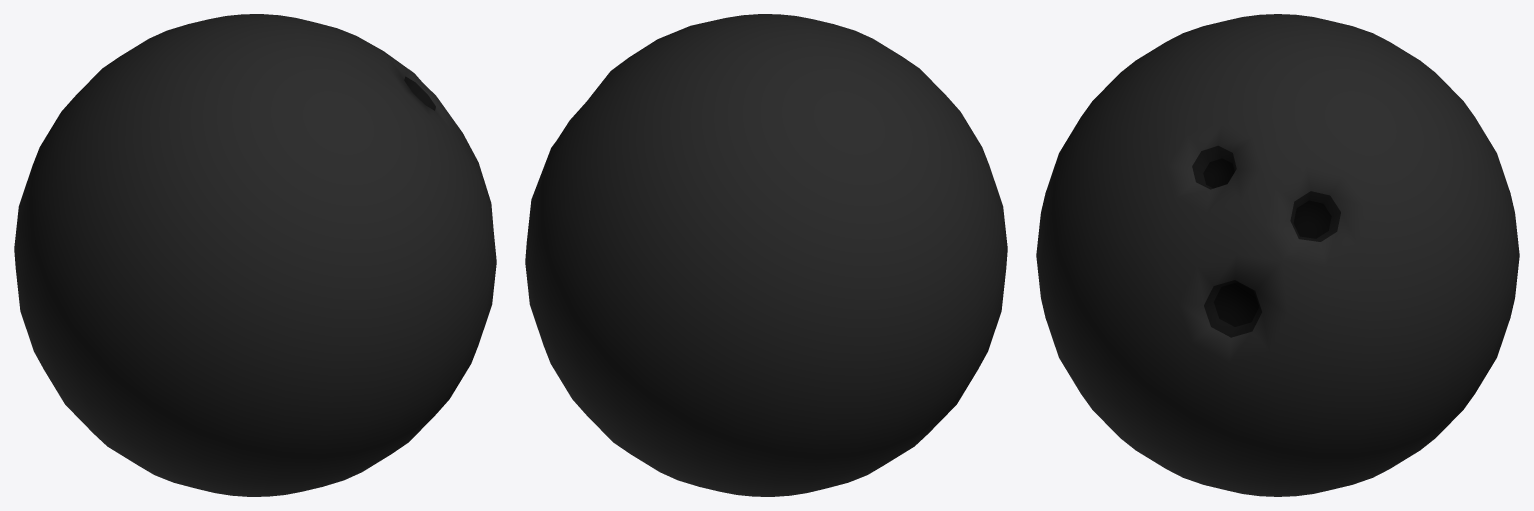
File: BowlingBall.fbx
The picture shows the model from 3 angles, left to right: view 1: azimuth 30°, elevation 25°; view 2: azimuth 150°, elevation 25°; view 3: azimuth 270°, elevation 25°; orthographic projection.
Visible parts, largest first — view 1: BowlingBall; view 2: BowlingBall; view 3: BowlingBall.
Part boxes in pixels (box(x1,y1,x2,y2)): BowlingBall: box(14, 14, 496, 496); BowlingBall: box(525, 14, 1007, 496); BowlingBall: box(1036, 14, 1519, 496).
Size of the model in its own units: 0.2599 by 0.2602 by 0.2602.
